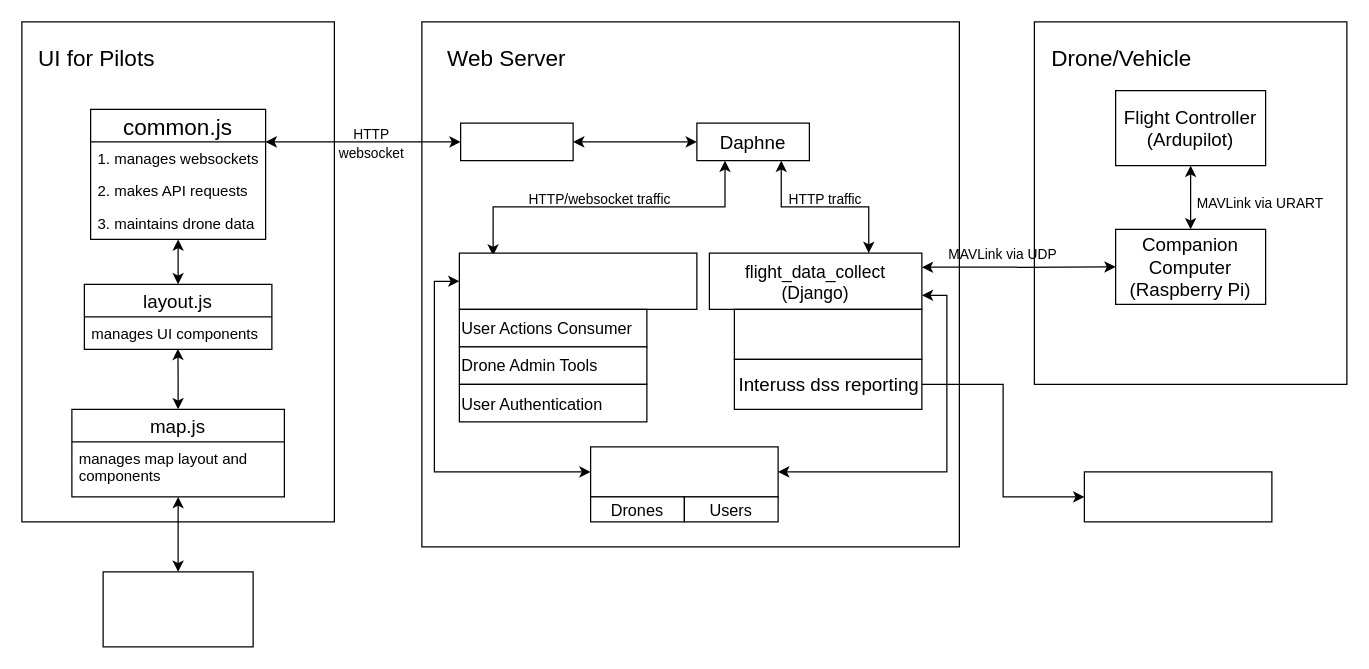
Some shapes in this 1369 by 669 pixel diagram are drawn without their labels. The shapes that lost their labels are listed below. From the top down, each one's centre as x and y in pixels, then its label:
the point at 516,141: NGINX
the point at 577,280: flightmonitor (Django)
the point at 827,333: Drone Communication (pyMAVLink)
the point at 683,471: AWS RDS (SQL DB)
the point at 1177,496: Interuss dss API
the point at 177,609: MapBox API
